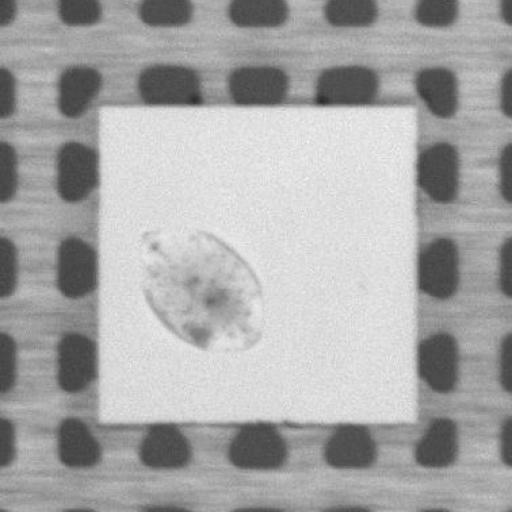DIE_INK: (134, 224, 266, 356)
